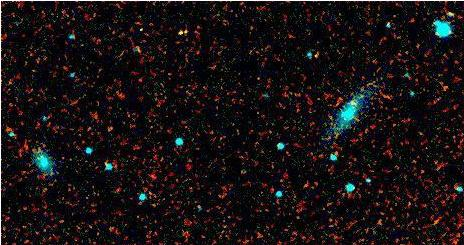star: (169, 16, 199, 46)
